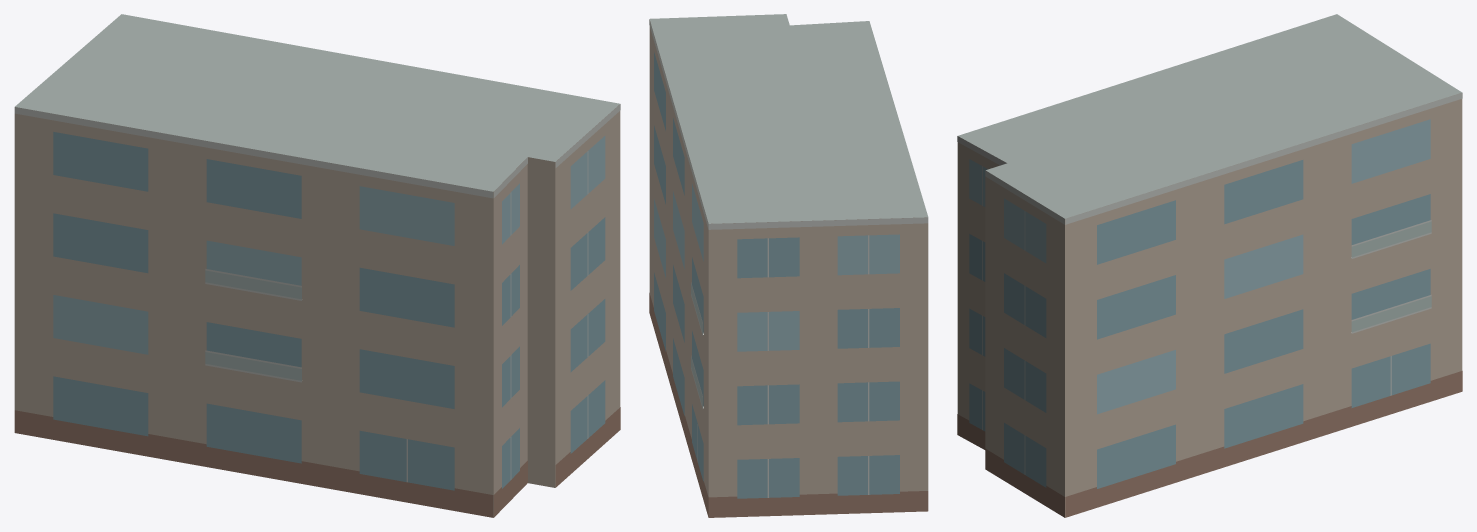
File: survey-upis-32812415.glb
3 views of the same model, side by side, from view 1: azimuth 30°, elevation 25°; view 2: azimuth 150°, elevation 25°; view 3: azimuth 270°, elevation 25° (orthographic). The views are drawn at different scales.
Parts seen in each view (by area): view 1: survey-upis-32812415.tmp; view 2: survey-upis-32812415.tmp; view 3: survey-upis-32812415.tmp.
Boxes of the visible parts, <box> form: survey-upis-32812415.tmp: <box>14,14,620,517</box>; survey-upis-32812415.tmp: <box>649,14,928,517</box>; survey-upis-32812415.tmp: <box>957,14,1462,517</box>.
Bounding box in the file's own units: 17.48 × 11.9 × 18.21.
